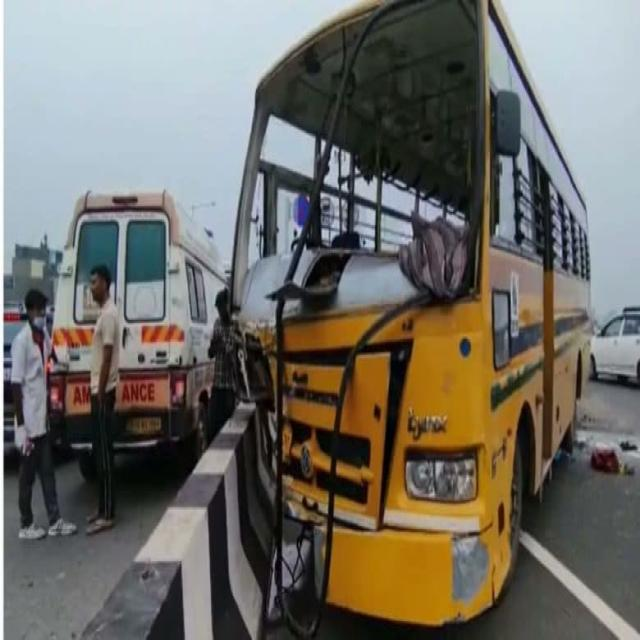accident: (231, 0, 591, 632)
emergency: (50, 189, 226, 464)
